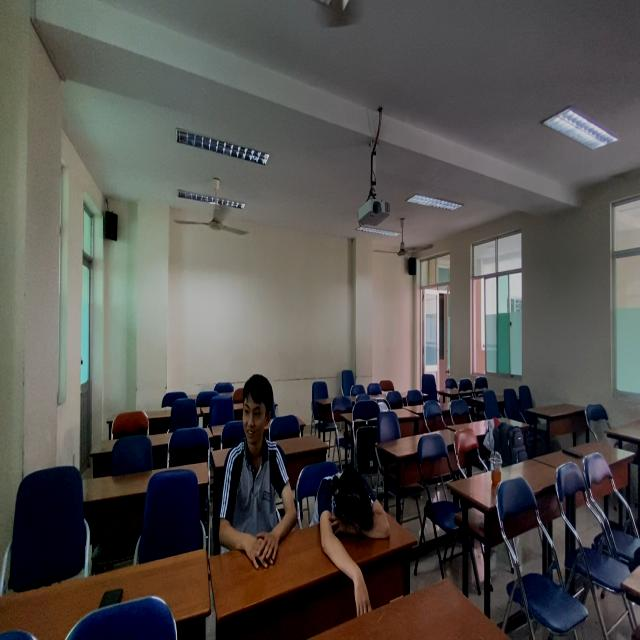sleep: (307, 456, 399, 558)
